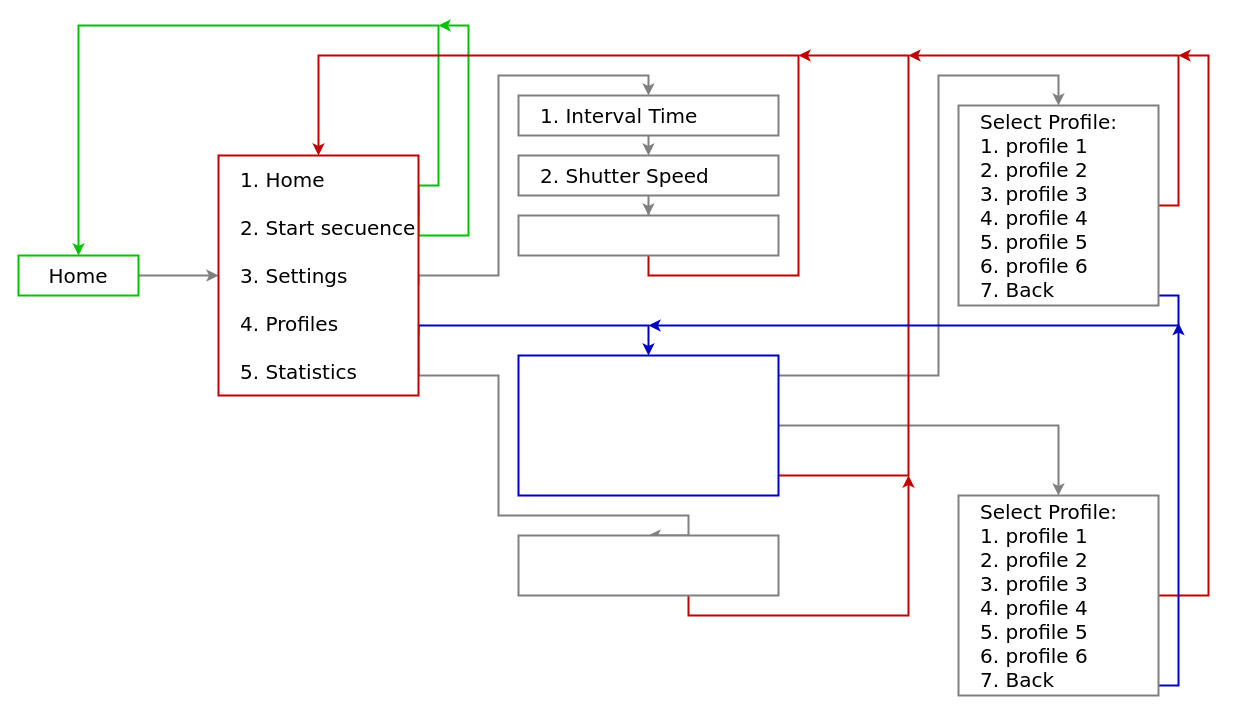
The diagram is 1234 pixels wide and 713 high, and some of its shapes have lost their labels. The box of each missing label's shape, as (x1, y1, x2, y2) in pixels:
- Total Photos - Total Runtime: (517, 534, 779, 596)
1. Load profile 2. Save profile 3 . Back: (517, 354, 779, 496)
3. Photo Limit: (517, 214, 779, 256)
